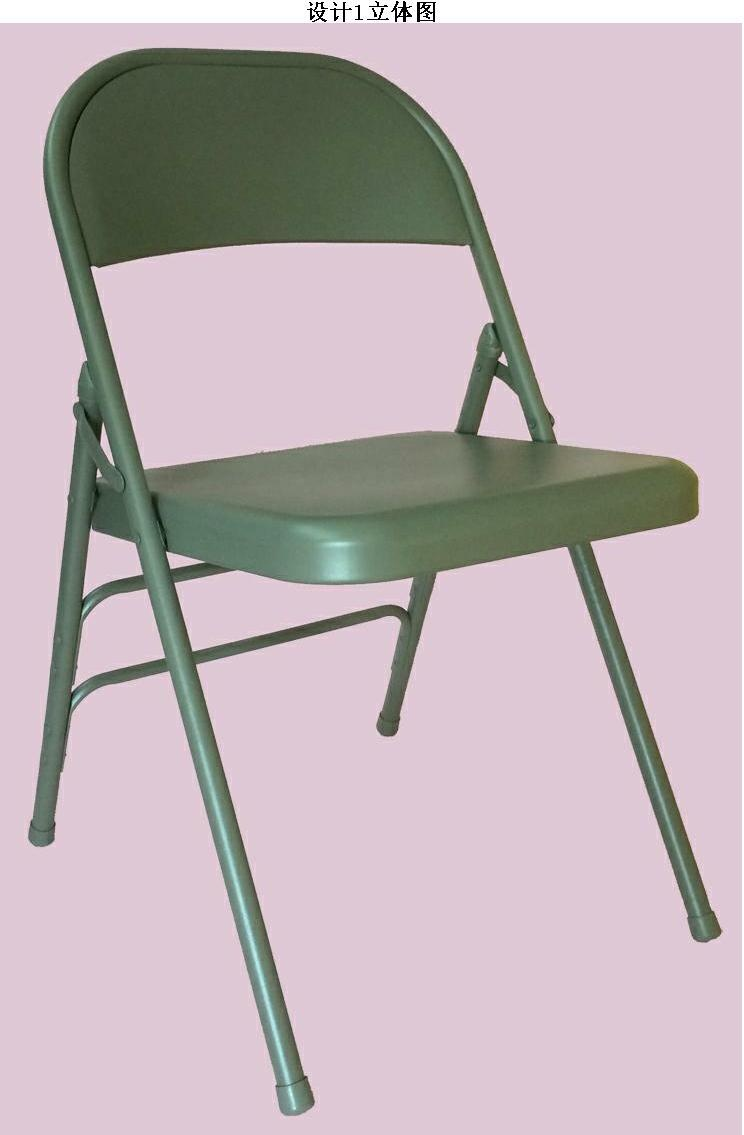obstacle: (29, 49, 719, 1114)
